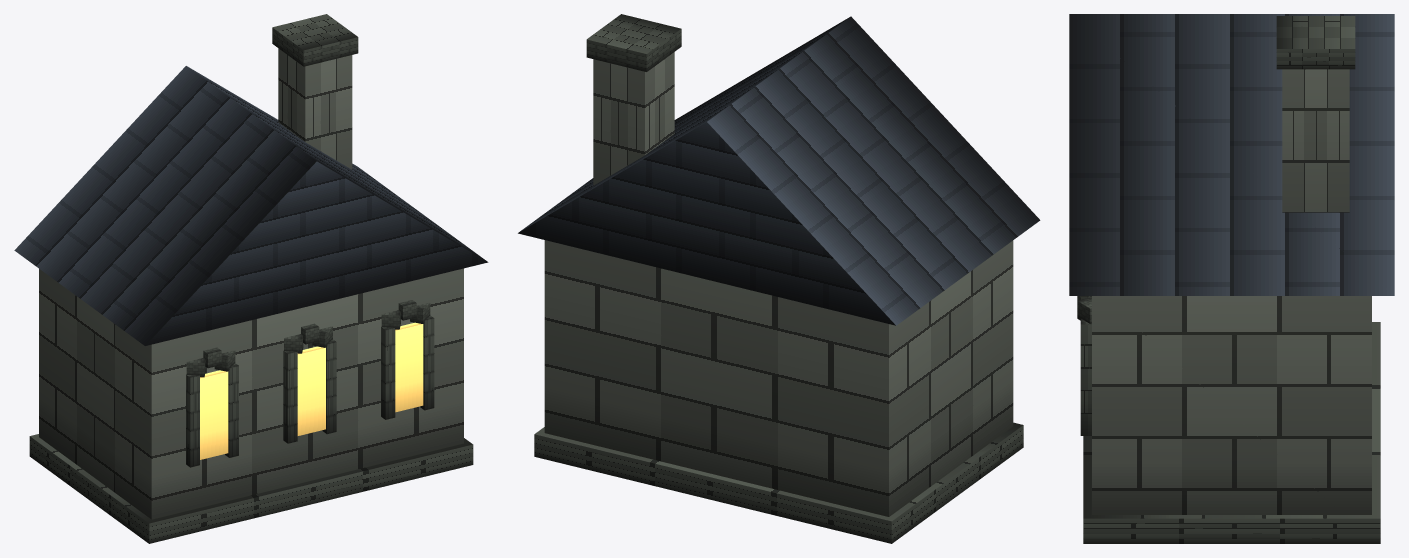
Rendered from great_hall_dark.gltf.
3 renders of one model, left to right at view 1: azimuth 30°, elevation 25°; view 2: azimuth 150°, elevation 25°; view 3: azimuth 270°, elevation 25°, orthographic. The views are drawn at different scales.
Parts seen in each view (by area): view 1: great_hall_dark; view 2: great_hall_dark; view 3: great_hall_dark.
Part boxes in pixels (bbox=[...]): great_hall_dark: bbox=[14, 14, 488, 543]; great_hall_dark: bbox=[518, 14, 1040, 543]; great_hall_dark: bbox=[1069, 14, 1394, 543].
Bounding box in the file's own units: 1.76 × 1.86 × 1.16.
1 material, 1 textured.
